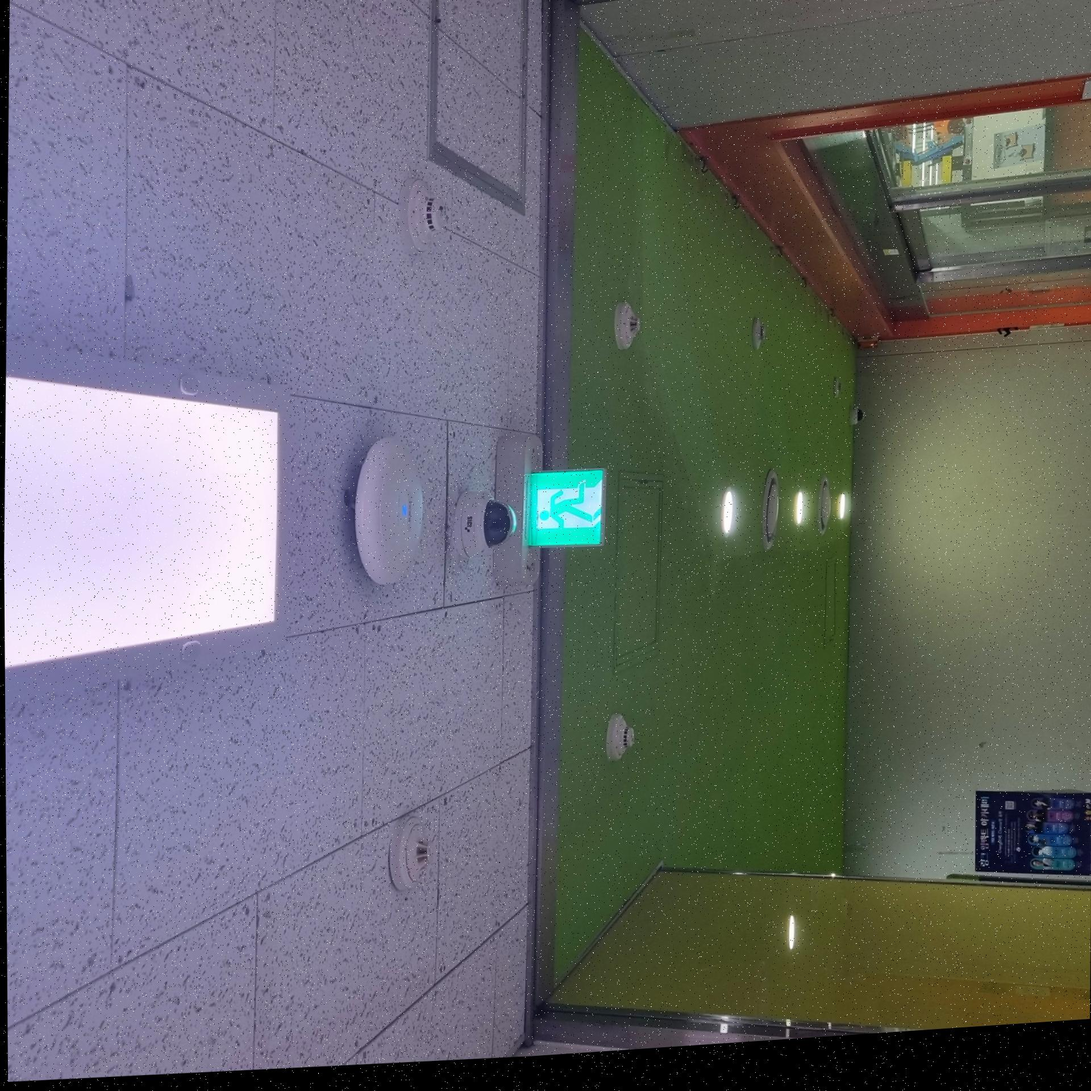emergency_exit: (523, 466, 606, 549)
